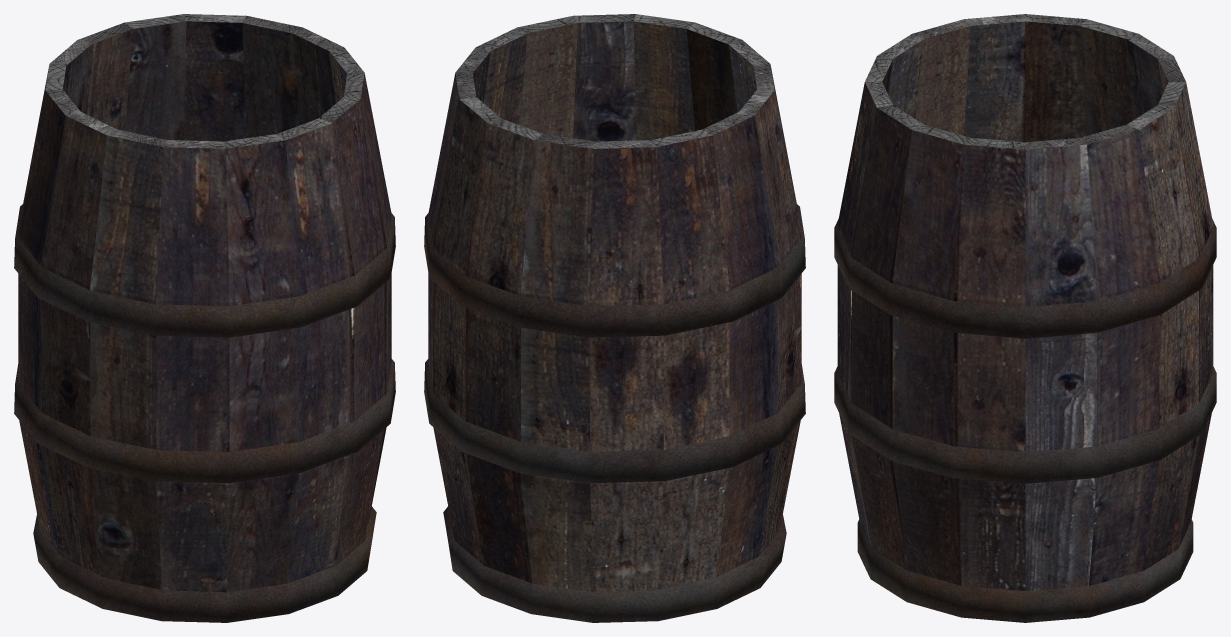
The model's file is barrel_open.fbx.
3 renders of one model, left to right at view 1: azimuth 30°, elevation 25°; view 2: azimuth 150°, elevation 25°; view 3: azimuth 270°, elevation 25°, orthographic.
Parts seen in each view (by area): view 1: Barrel1_6; view 2: Barrel1_6; view 3: Barrel1_6.
Part boxes in pixels (box(x1,y1,x2,y2)): Barrel1_6: box(14, 14, 395, 622); Barrel1_6: box(424, 14, 805, 622); Barrel1_6: box(834, 14, 1216, 622).
Size of the model in its own units: 0.5987 by 0.8072 by 0.5948.
